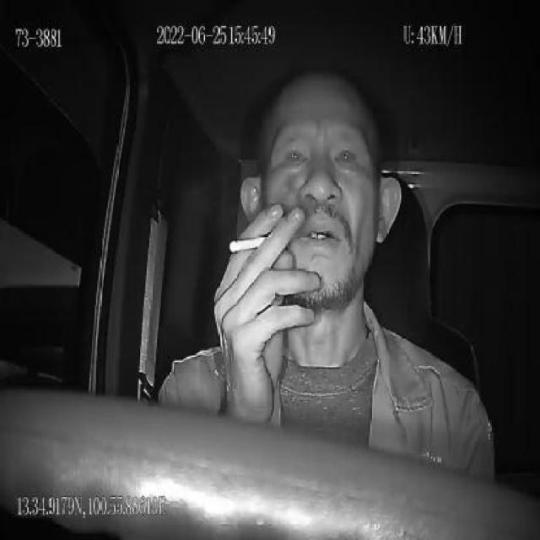smoking: (228, 235, 269, 253)
